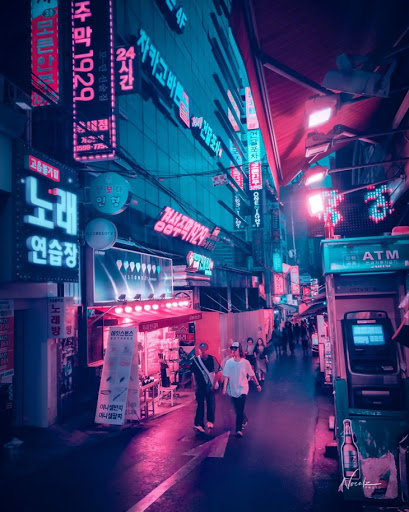people: (224, 341, 259, 436), (191, 342, 221, 431), (244, 335, 255, 376), (257, 339, 268, 380)
